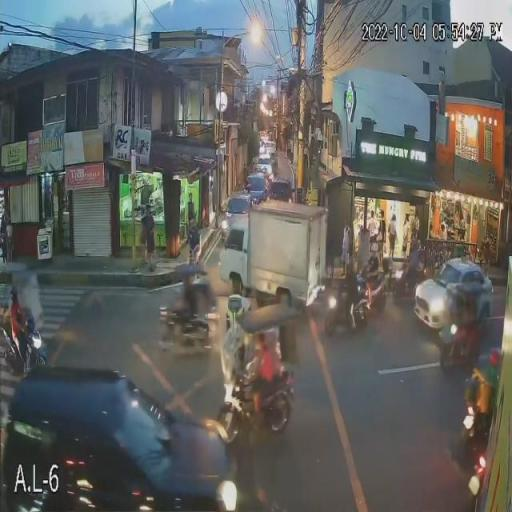helmet: (490, 347, 503, 363), (369, 242, 381, 256), (9, 289, 20, 302)
motorcycle: (220, 363, 295, 447), (0, 315, 51, 379), (160, 306, 218, 356), (439, 318, 487, 378), (321, 280, 366, 338), (461, 389, 496, 455), (357, 270, 386, 323)
rider: (243, 330, 283, 406), (448, 287, 486, 350), (468, 349, 503, 417), (176, 270, 214, 322), (334, 254, 360, 311), (10, 288, 34, 345), (363, 242, 383, 292)
